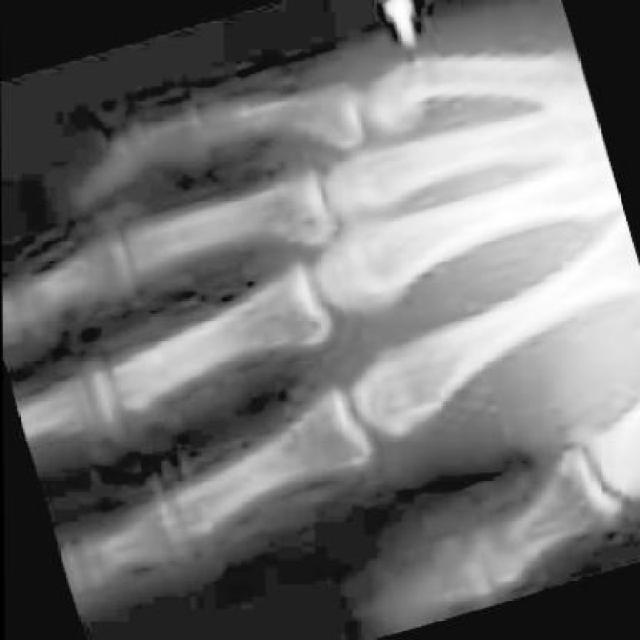Fracture: (374, 51, 449, 122)
